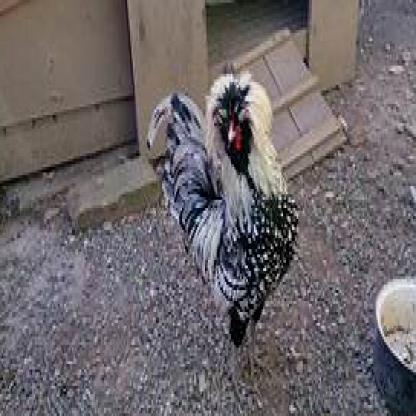chicken: (146, 69, 298, 370)
